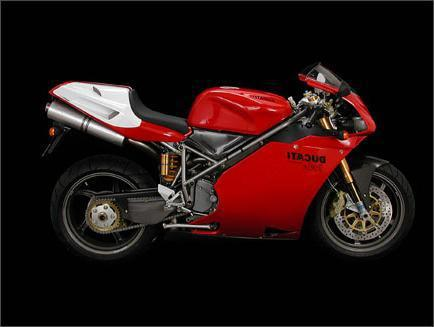motorcycle: (28, 56, 429, 272)
